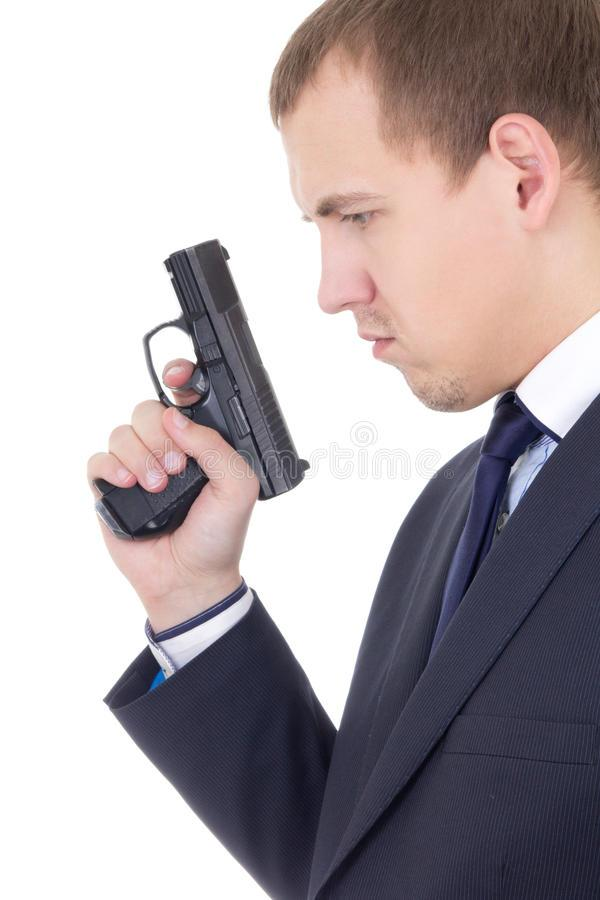criminal: (87, 0, 600, 900)
weapon: (88, 230, 312, 545)
